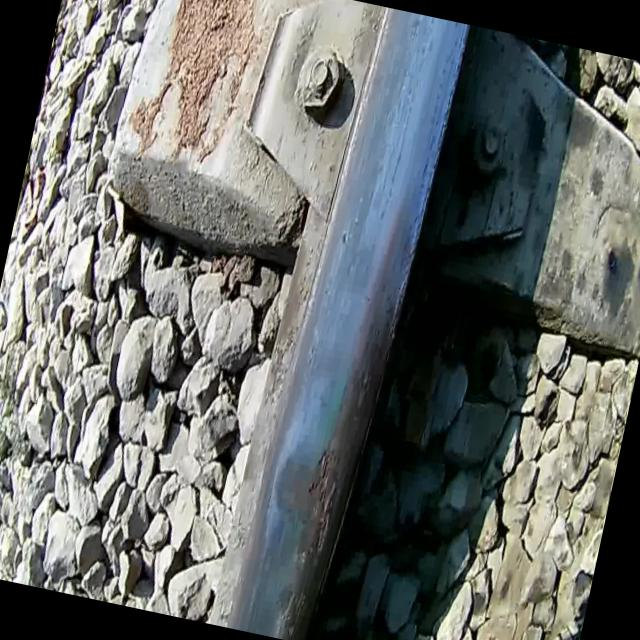Spallings: (292, 436, 348, 570), (283, 581, 311, 640)
Squats: (248, 424, 350, 570), (259, 569, 315, 640)
